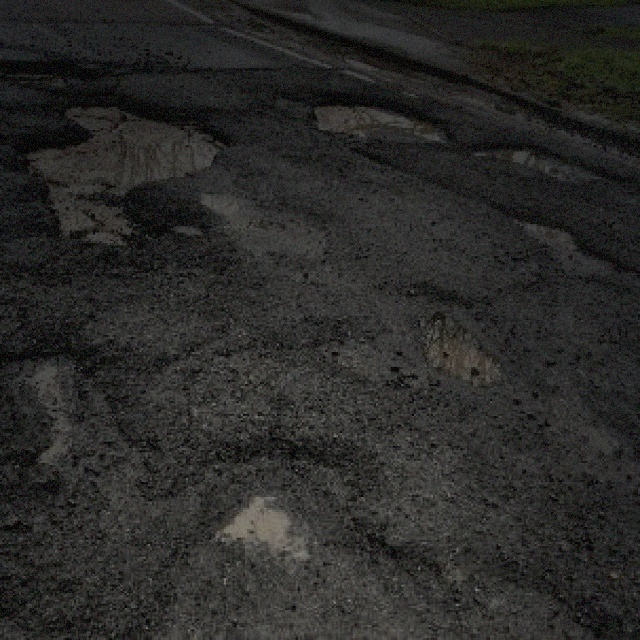pothole: (12, 92, 238, 247), (4, 335, 93, 469), (308, 94, 450, 145), (416, 310, 505, 388), (471, 136, 604, 184), (0, 51, 101, 83)
